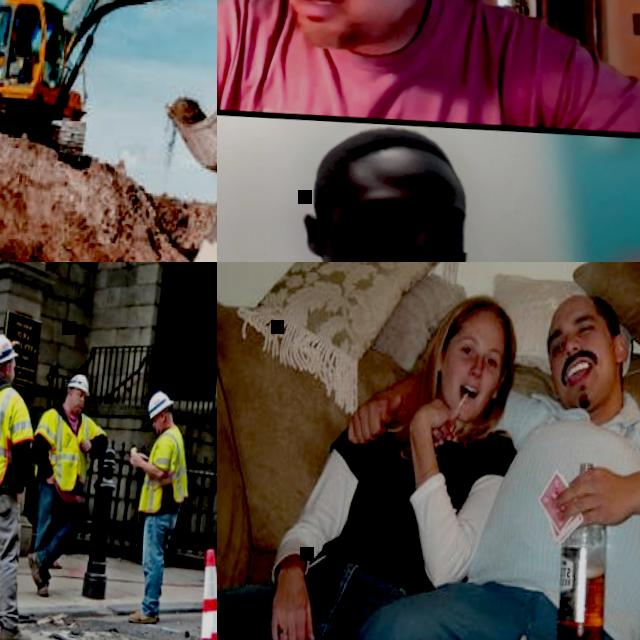Hardhat: (147, 392, 173, 420), (0, 331, 18, 366), (66, 374, 90, 395)
NO-Hardhat: (312, 121, 473, 195), (446, 294, 519, 340), (547, 293, 615, 326)
NO-Mask: (280, 0, 413, 58), (550, 328, 627, 410), (312, 236, 473, 262), (435, 361, 498, 422), (66, 396, 82, 411), (2, 367, 15, 383), (154, 417, 166, 433)
NO-Safety Vest: (217, 0, 568, 131), (466, 385, 640, 626), (320, 408, 506, 593)
Person: (217, 273, 524, 640), (344, 277, 640, 640), (217, 0, 640, 144), (217, 106, 602, 262), (20, 371, 113, 603), (117, 390, 194, 628), (0, 325, 50, 640), (7, 18, 25, 76)
Safety Cone: (176, 548, 217, 640)
Safety Vest: (136, 424, 190, 515), (43, 410, 89, 492), (0, 384, 17, 489), (7, 26, 18, 48)
vehicle: (0, 0, 217, 191)
